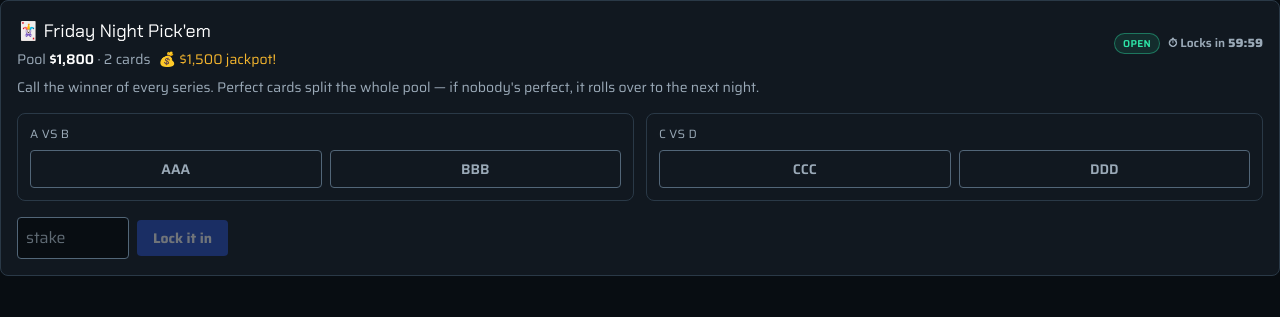
Test: PickemPanel › surfaces a server error without refreshing
Click the button "AAA".
click(176, 169)  # box [30, 150, 322, 188]
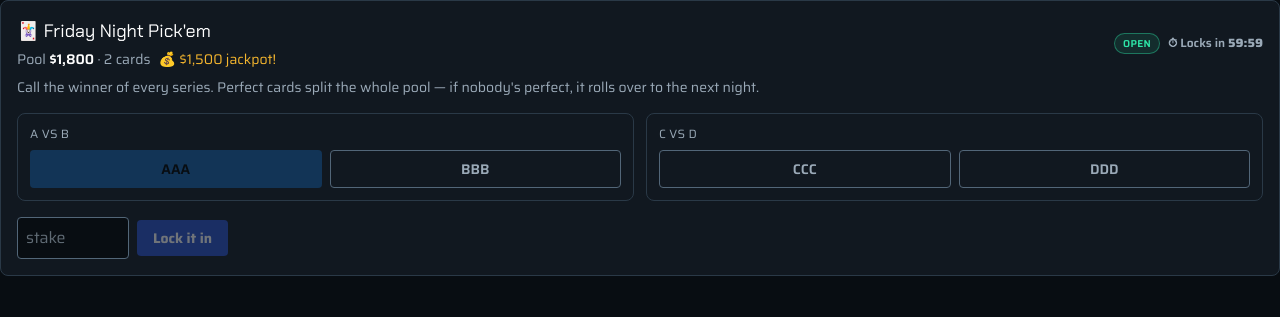
Click the button "DDD".
click(1104, 169)  # box [958, 150, 1250, 188]
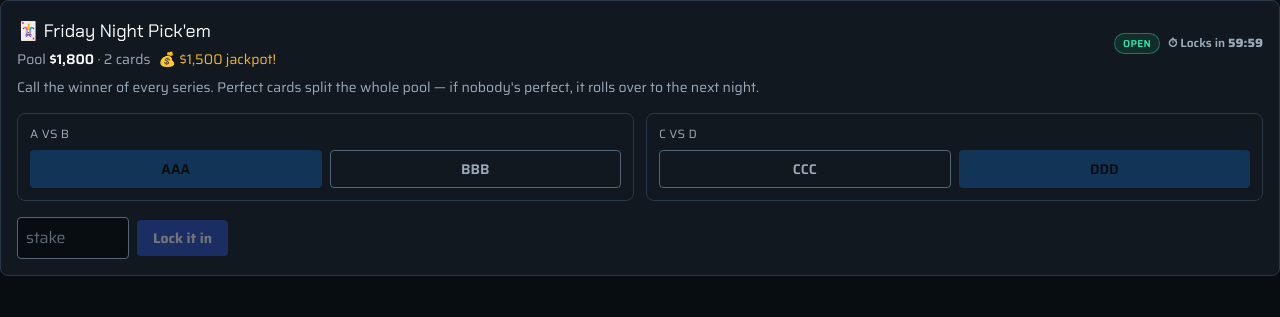
Type "300" into the number field named "card amount".
click(73, 238); type("300")  # box [17, 217, 129, 259]
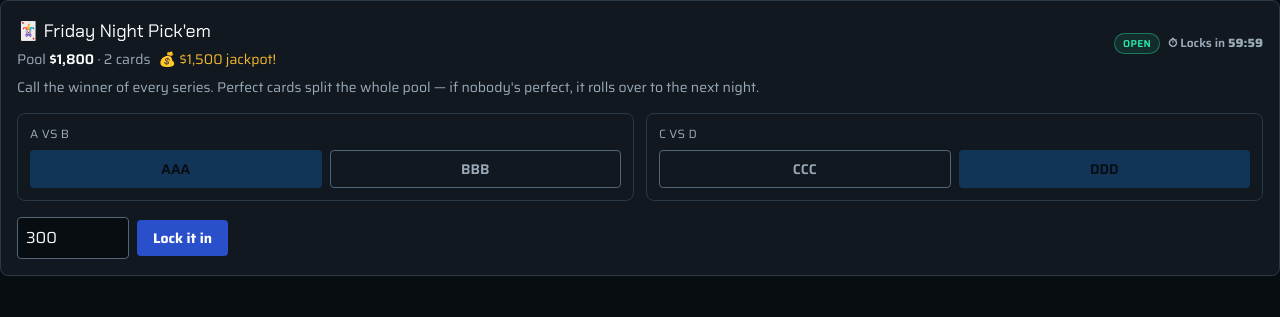
Click the button "Lock it in".
click(183, 238)  # box [137, 220, 228, 256]
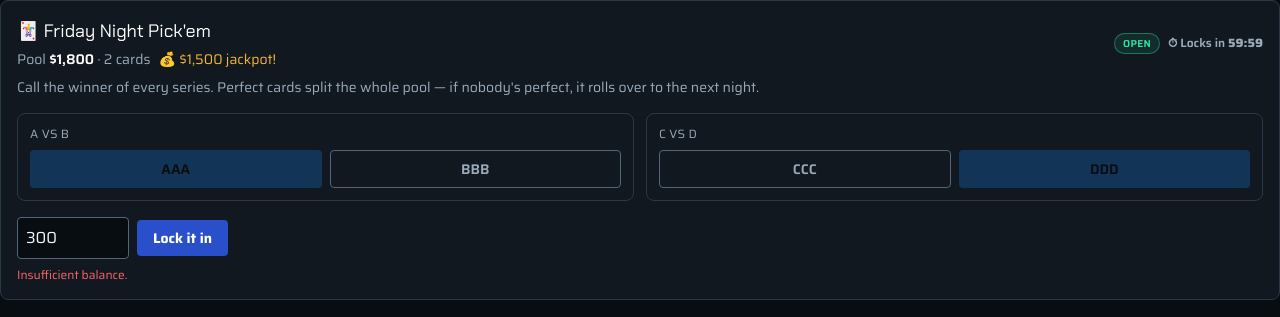
expect the text "Insufficient balance." is shown: met, box [17, 265, 128, 284]
